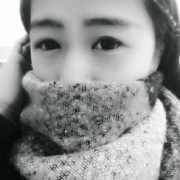WRONG: (28, 11, 162, 145)
